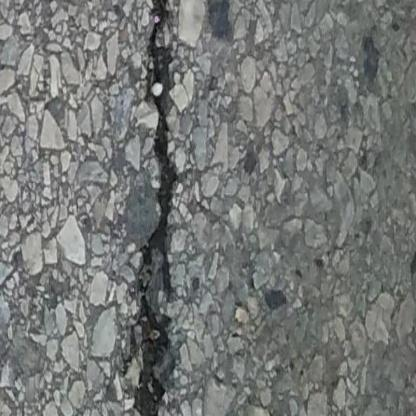Cracks: (137, 0, 187, 416)
